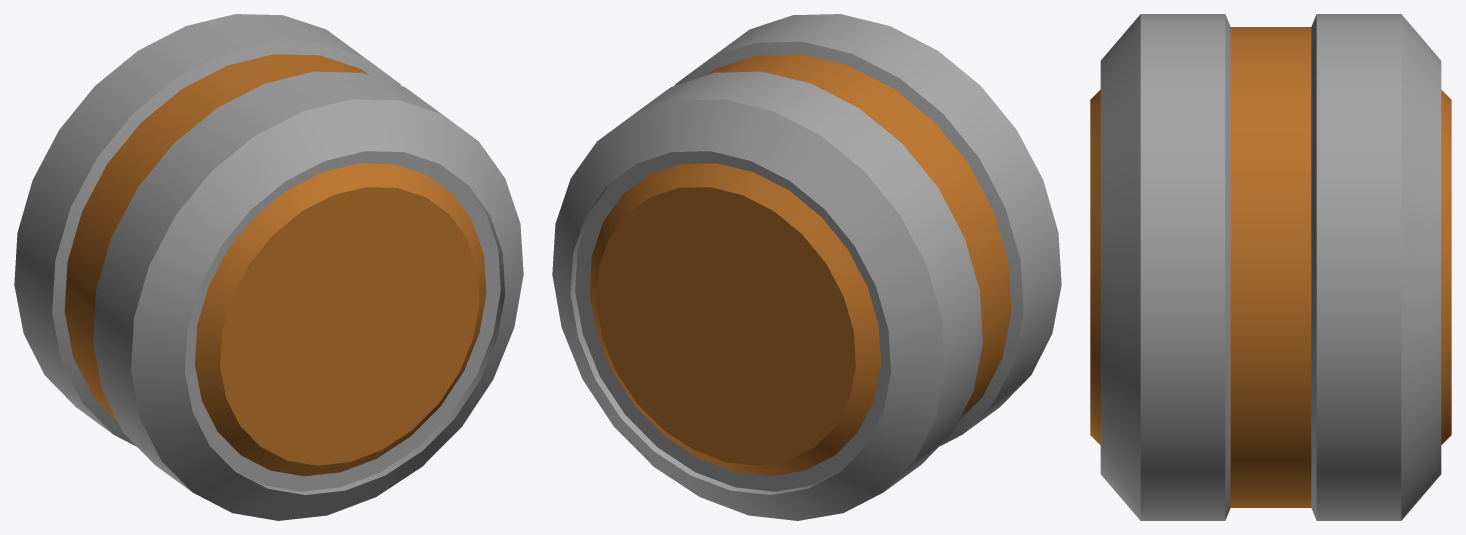
Rendered from Cylinder_Pistol_1.glb.
3 renders of one model, left to right at view 1: azimuth 30°, elevation 25°; view 2: azimuth 150°, elevation 25°; view 3: azimuth 270°, elevation 25°, orthographic. The views are drawn at different scales.
Parts seen in each view (by area): view 1: Accessory_Pistol_1; view 2: Accessory_Pistol_1; view 3: Accessory_Pistol_1.
Boxes of the visible parts, box(x1,y1,x2,y2) form: Accessory_Pistol_1: box(14, 14, 523, 520); Accessory_Pistol_1: box(552, 14, 1061, 520); Accessory_Pistol_1: box(1090, 14, 1451, 520).
Bounding box in the file's own units: 0.25 × 0.2495 × 0.1782.
